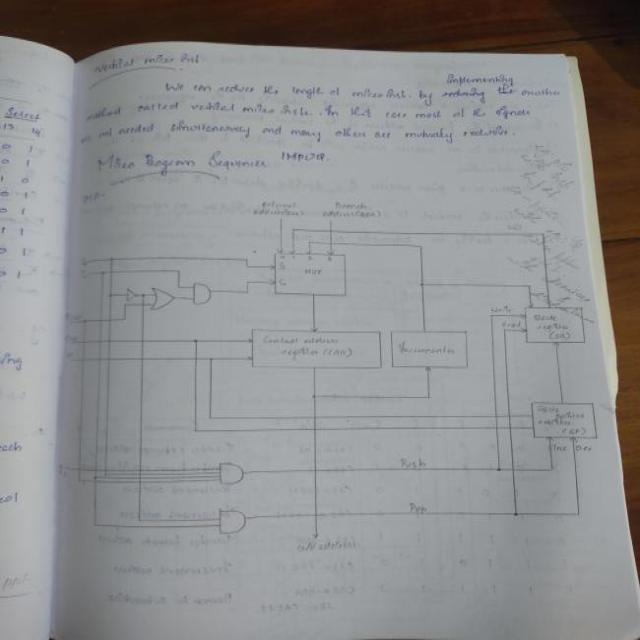Figure Detection - v3 Dataset Version2: (58, 198, 600, 543)
